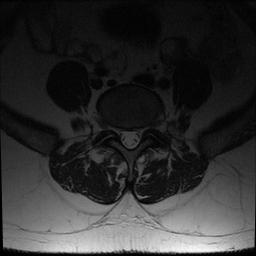CCS_normal: (126, 126, 133, 154)
LFS_severe_stenosis: (141, 118, 149, 137)
LLS_normal: (133, 125, 141, 151)
RFS_stenosis: (110, 119, 120, 140)
RLS_normal: (119, 124, 126, 149)
